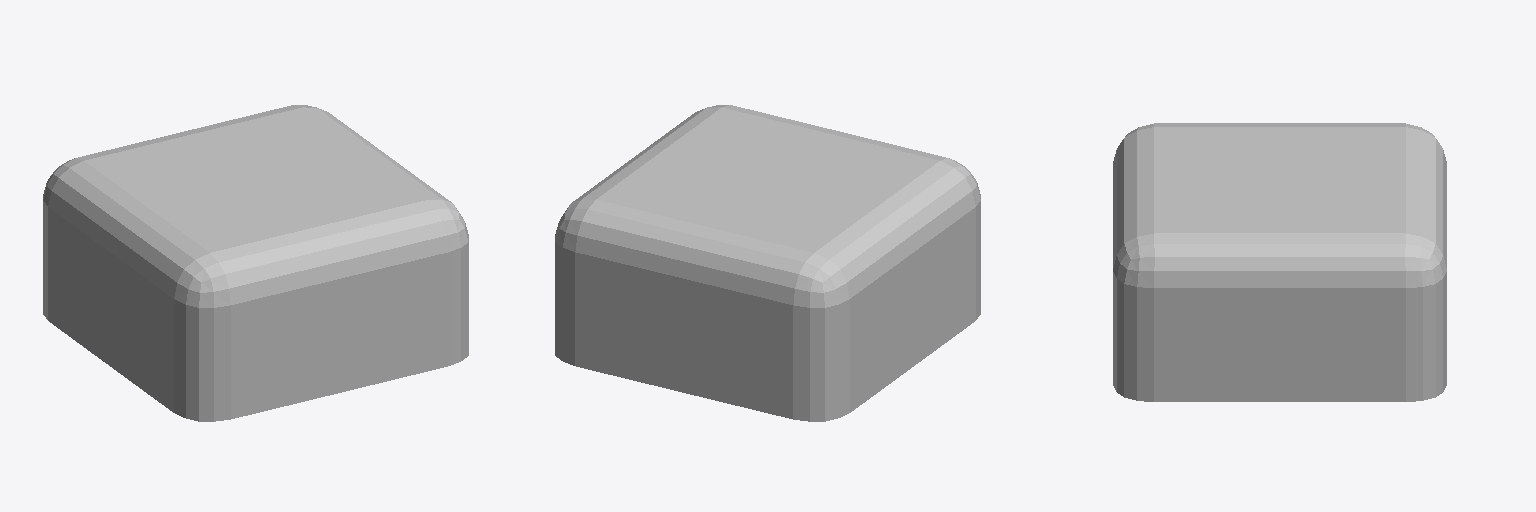
The model's file is sliderhead.obj.
3 renders of one model, left to right at view 1: azimuth 30°, elevation 25°; view 2: azimuth 150°, elevation 25°; view 3: azimuth 270°, elevation 25°, orthographic.
Visible parts, largest first — view 1: block; view 2: block; view 3: block.
Boxes of the visible parts, x1=… form: block: x1=43, y1=105, x2=468, y2=421; block: x1=555, y1=105, x2=980, y2=421; block: x1=1113, y1=123, x2=1446, y2=401.
Size of the model in its own units: 0.2954 by 0.1477 by 0.2954.